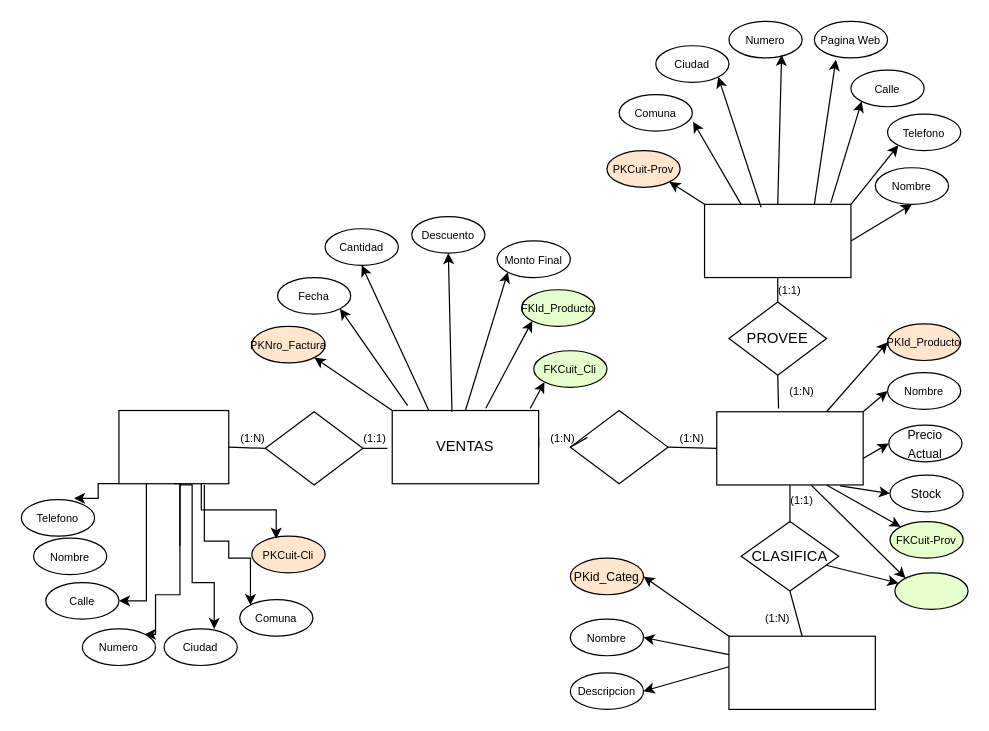
Image size: 989x731. Some labels were removed from this diagram. The shapes that lost their labels are listed below. From the top down, each one's centre as x and y in pixels, then its label:
[777,240]: PROVEEDOR
[173,446]: CLIENTES
[313,448]: REALIZA
[618,446]: COMPONE
[789,448]: PRODUCTOS
[931,590]: FKid_Categ
[801,672]: CATEGORIAS
